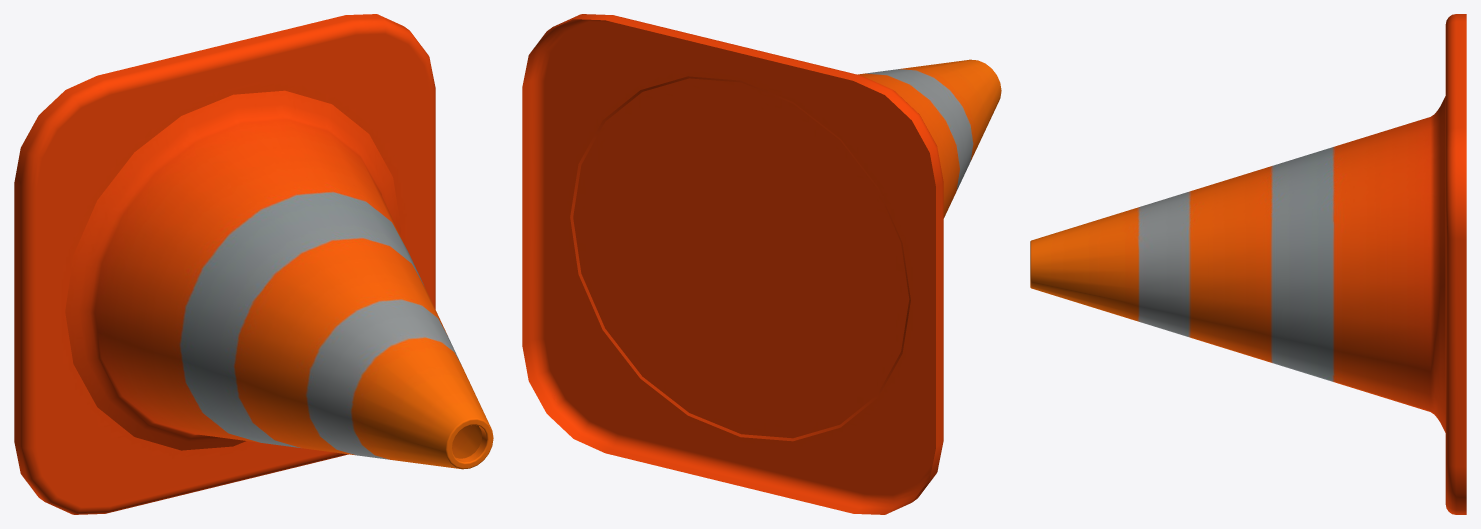
File: traffic_cone_prop.glb
3 renders of one model, left to right at view 1: azimuth 30°, elevation 25°; view 2: azimuth 150°, elevation 25°; view 3: azimuth 270°, elevation 25°, orthographic. The views are drawn at different scales.
Visible parts, largest first — view 1: pCone3; view 2: pCone3; view 3: pCone3.
Boxes of the visible parts, x1,y1,x2,y2 form: pCone3: (14, 14, 493, 514); pCone3: (522, 14, 1001, 514); pCone3: (1030, 14, 1466, 514).
Bounding box in the file's own units: 1.92 × 1.92 × 2.
Materials: 1 (1 with a texture image).
